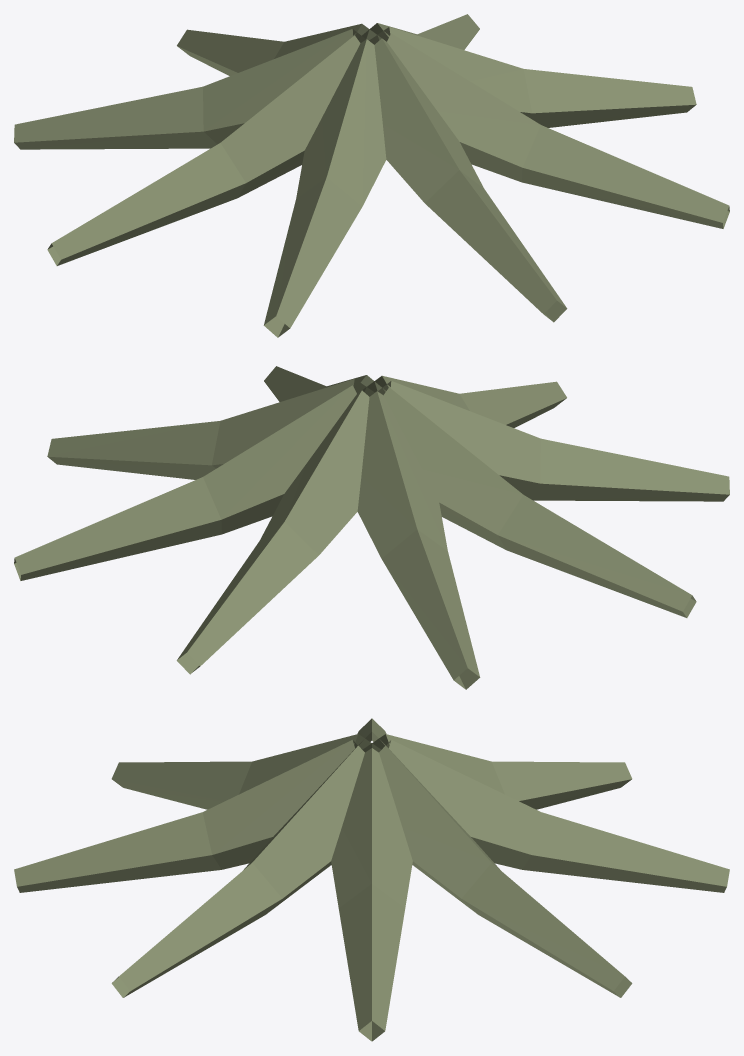
File: Holdfast.gltf
The picture shows the model from 3 angles, top to bottom: view 1: azimuth 30°, elevation 25°; view 2: azimuth 150°, elevation 25°; view 3: azimuth 270°, elevation 25°; orthographic projection. The views are drawn at different scales.
Visible parts, largest first — view 1: Holdfast; view 2: Holdfast; view 3: Holdfast.
Part boxes in pixels (x1,y1,x2,y2): Holdfast: (14, 14, 729, 337); Holdfast: (14, 366, 729, 689); Holdfast: (14, 718, 729, 1041).
Bounding box in the file's own units: 0.8066 × 0.1905 × 0.8066.
